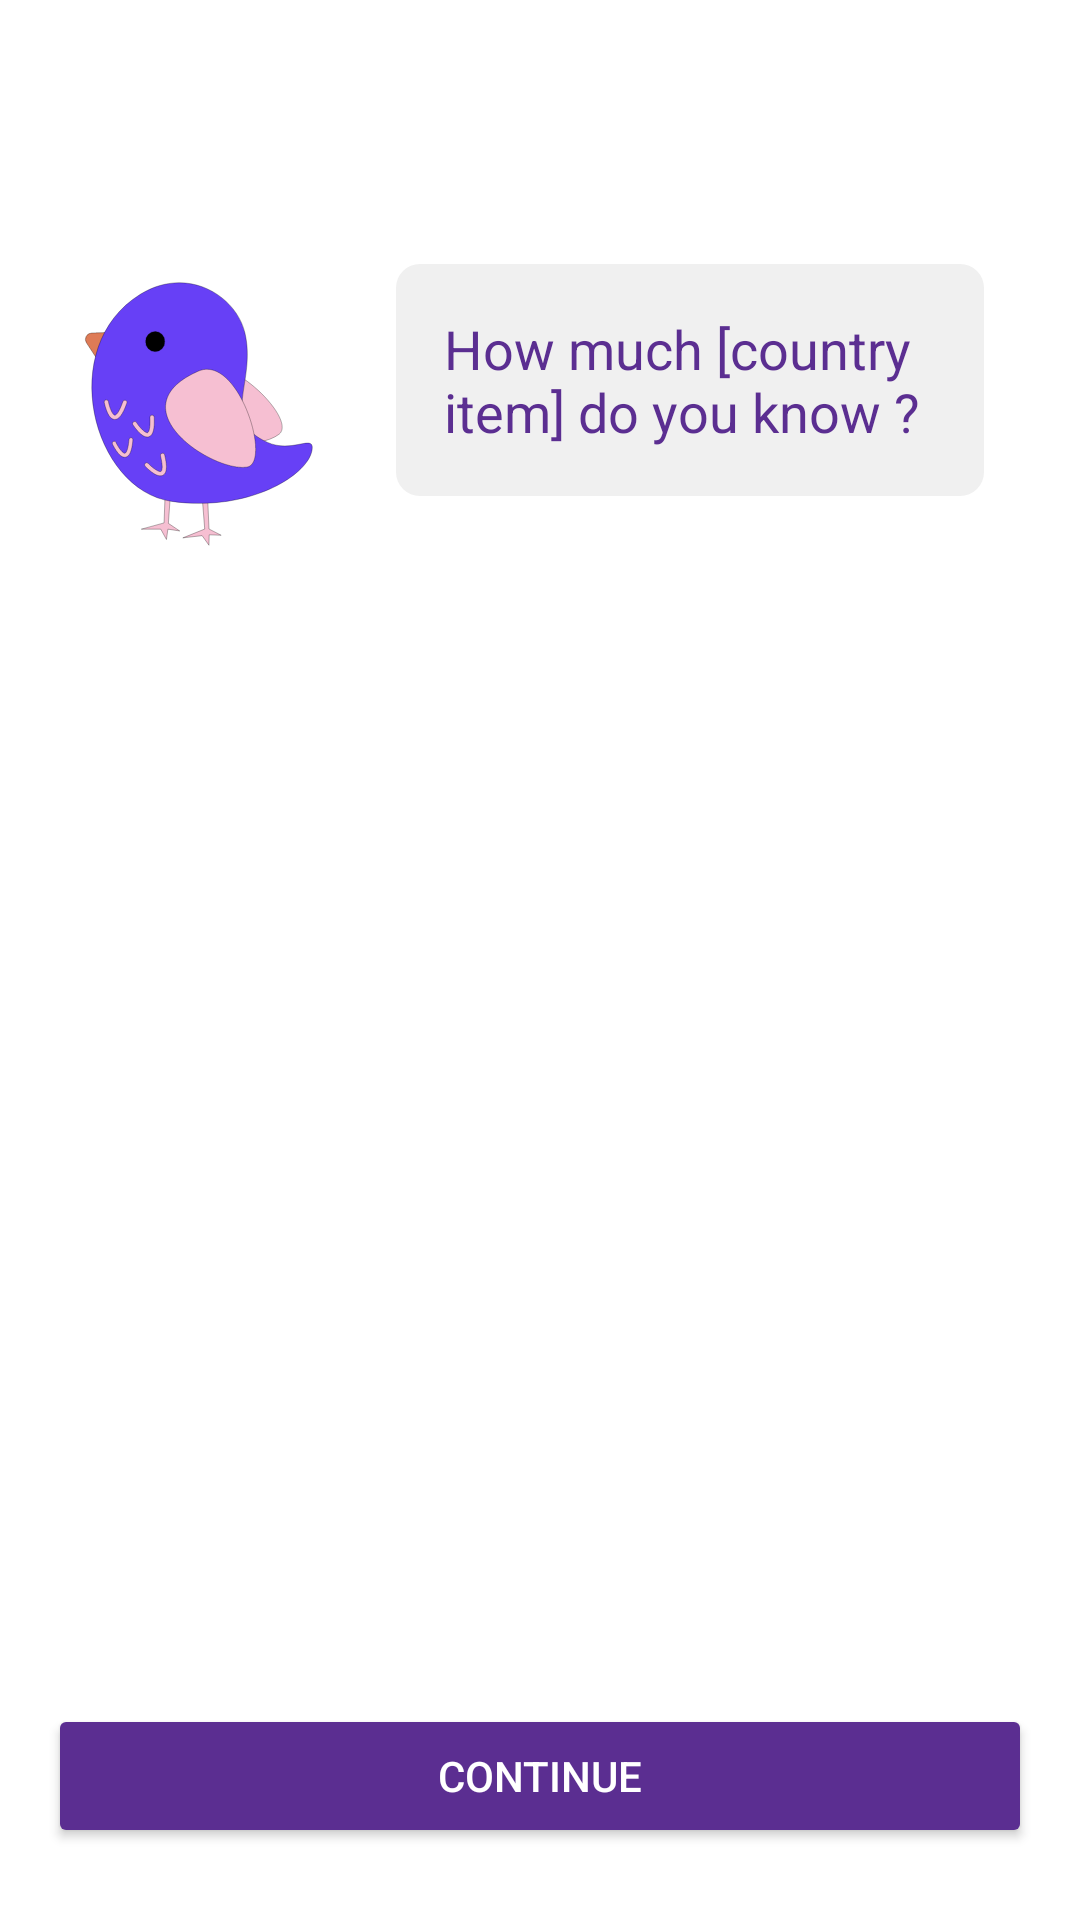

Icons on this 1080w x 1920h Android screen, each with its box as (x1, y1, x2, y2):
bird: (85, 282, 313, 545)
